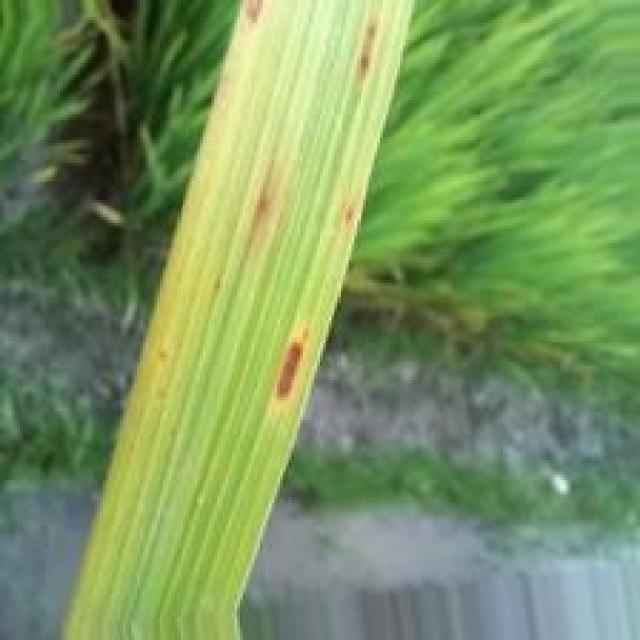Brown_Spot: (270, 338, 308, 403), (354, 17, 379, 78)
